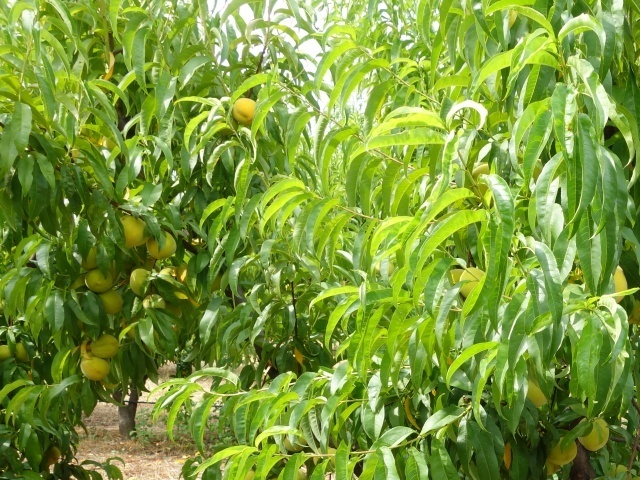peach: (114, 211, 152, 248), (573, 415, 611, 452), (541, 432, 580, 468), (77, 266, 118, 297), (141, 227, 178, 261), (74, 354, 114, 383), (455, 261, 486, 297), (230, 93, 260, 130), (87, 332, 124, 361), (92, 288, 125, 319), (124, 267, 155, 297), (137, 290, 168, 318), (76, 248, 107, 275), (10, 341, 31, 365), (1, 341, 12, 364)
